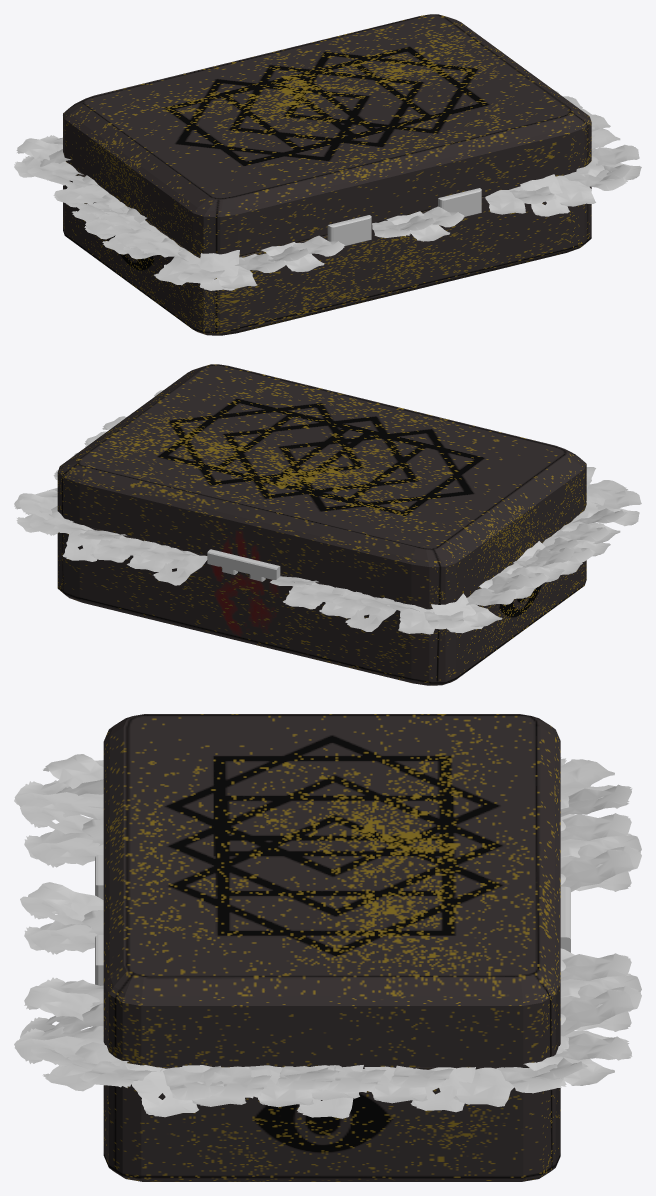
File: кейссденьгами.fbx
3 views of the same model, one above another, from view 1: azimuth 30°, elevation 25°; view 2: azimuth 150°, elevation 25°; view 3: azimuth 270°, elevation 25° (orthographic). The views are drawn at different scales.
Parts seen in each view (by area): view 1: Cube, Plane.061, Plane.032, Plane.028, Plane.033, Plane.066, Plane.049, Plane.031, Plane.027, Plane.073, Plane.069, Plane.063 (+12 smaller); view 2: Cube, Plane, Plane.010, Plane.047, Plane.039, Plane.042, Plane.005, Plane.037, Plane.044, Plane.065, Plane.060, Plane.003 (+11 smaller); view 3: Cube, Plane.004, Plane.029, Plane.036, Plane.009, Plane.063, Plane.034, Plane.041, Plane.003, Plane.068, Plane.030, Plane.024 (+29 smaller).
Boxes of the visible parts, x1,y1,x2,y2 form: Cube: [63, 14, 591, 335]; Plane.061: [199, 250, 239, 290]; Plane.032: [520, 174, 569, 216]; Plane.028: [555, 174, 595, 206]; Plane.033: [485, 186, 525, 214]; Plane.066: [154, 250, 200, 285]; Plane.049: [54, 186, 109, 205]; Plane.031: [591, 144, 639, 165]; Plane.027: [563, 169, 627, 190]; Plane.073: [386, 211, 449, 241]; Plane.069: [261, 242, 324, 271]; Plane.063: [235, 253, 288, 272]; Cube: [57, 364, 586, 685]; Plane: [153, 550, 207, 585]; Plane.010: [62, 522, 100, 561]; Plane.047: [398, 603, 434, 634]; Plane.039: [345, 597, 402, 631]; Plane.042: [431, 593, 483, 633]; Plane.005: [97, 537, 149, 559]; Plane.037: [289, 584, 342, 606]; Plane.044: [466, 588, 516, 605]; Plane.065: [594, 490, 641, 509]; Plane.060: [554, 523, 611, 541]; Plane.003: [140, 545, 195, 564]; Cube: [95, 714, 570, 1181]; Plane.004: [560, 990, 633, 1036]; Plane.029: [125, 1063, 198, 1117]; Plane.036: [560, 850, 633, 891]; Plane.009: [453, 1067, 514, 1106]; Plane.063: [14, 792, 103, 819]; Plane.034: [24, 986, 99, 1021]; Plane.041: [560, 813, 631, 841]; Plane.003: [560, 953, 631, 981]; Plane.068: [29, 837, 103, 867]; Plane.030: [42, 1042, 128, 1091]; Plane.024: [207, 1066, 271, 1098].
Bounding box in the file's own units: 334 × 83.97 × 244.
